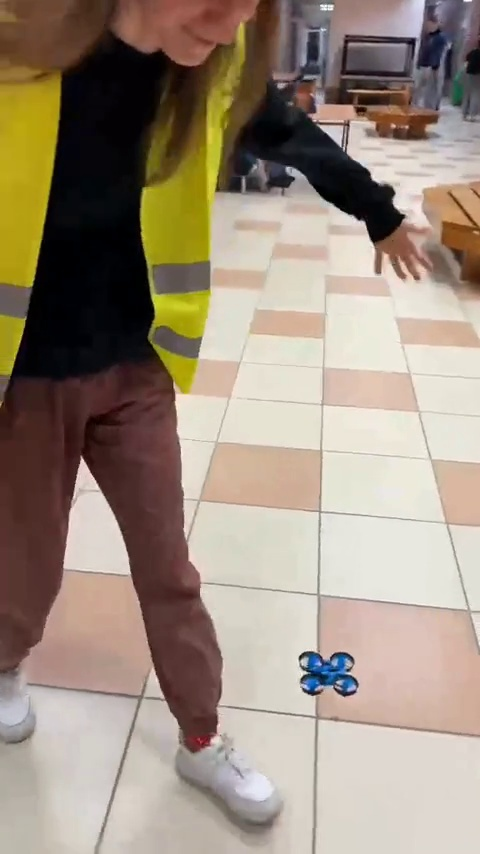drone: (300, 650, 358, 695)
no vest: (417, 16, 451, 118)
vest: (9, 7, 271, 812)
